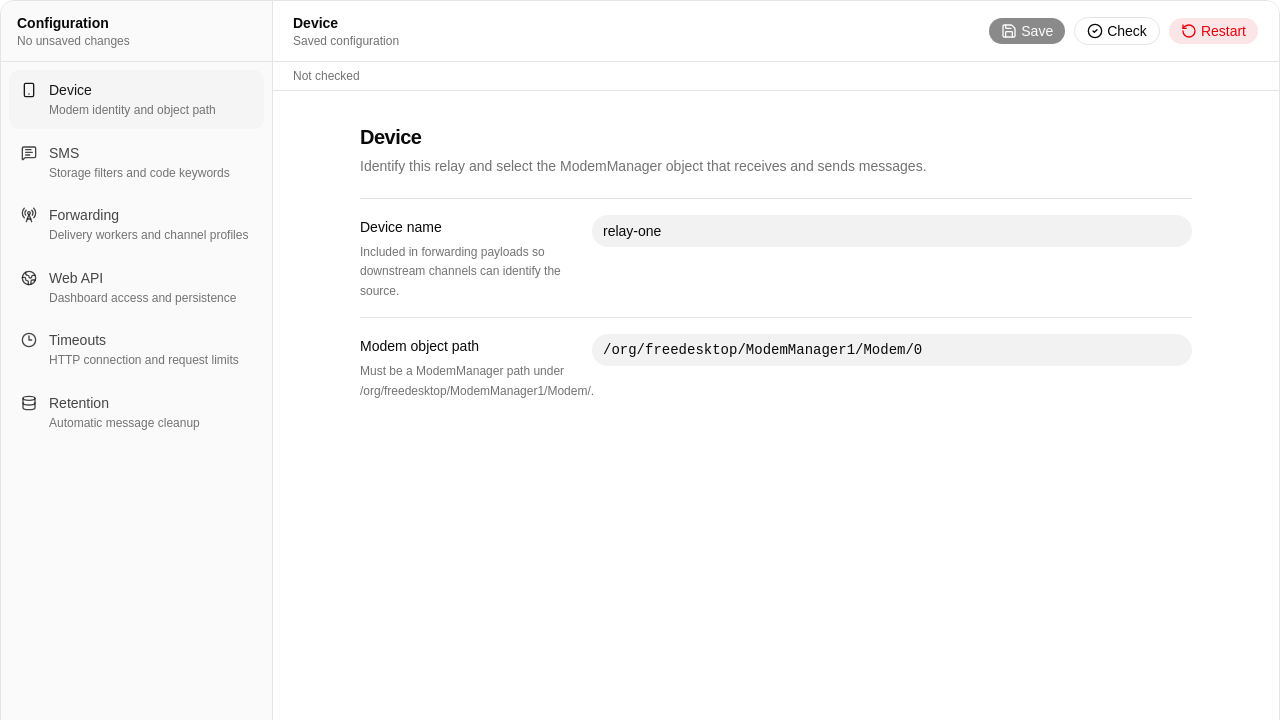
Test case: ConfigEditor workspace › previews before PUT and saves the exact captured snapshot
The image size is (1280, 720).
Replace the text in the field labelled "Device name" with "relay-two" at (892, 231), box [592, 215, 1192, 247]
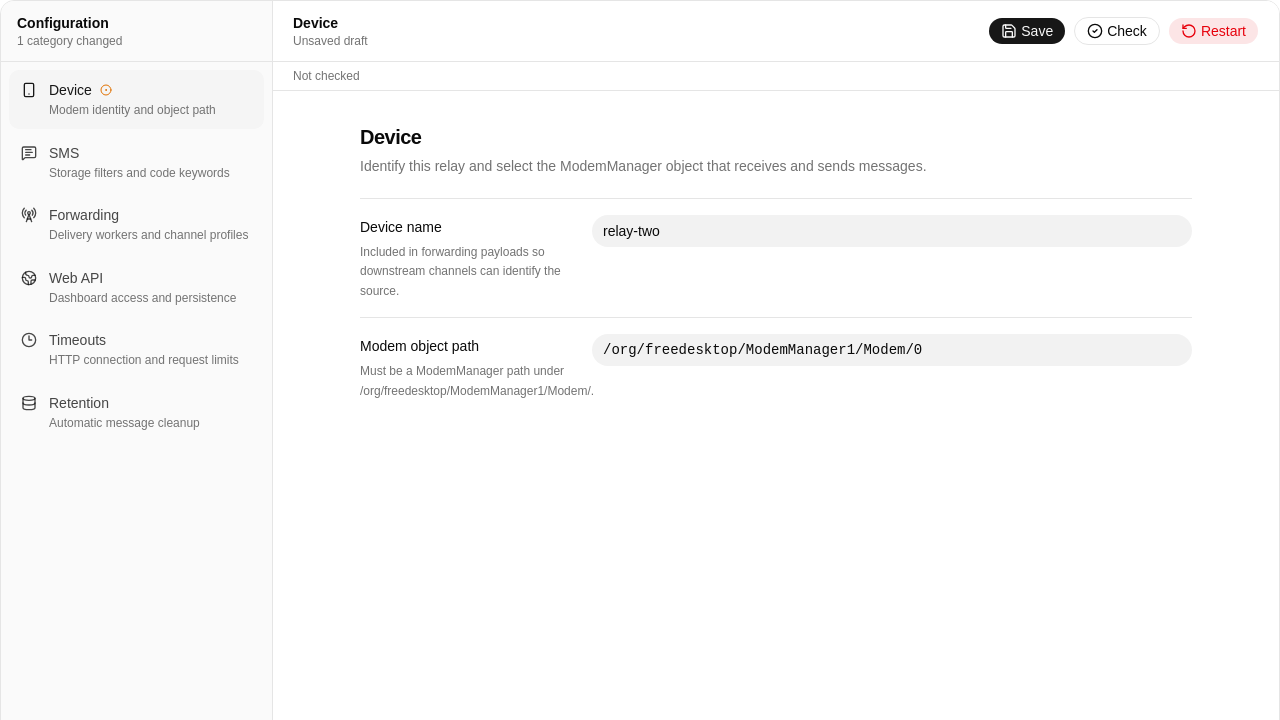
Click the button "Save" at (1027, 31), box [988, 17, 1066, 45]
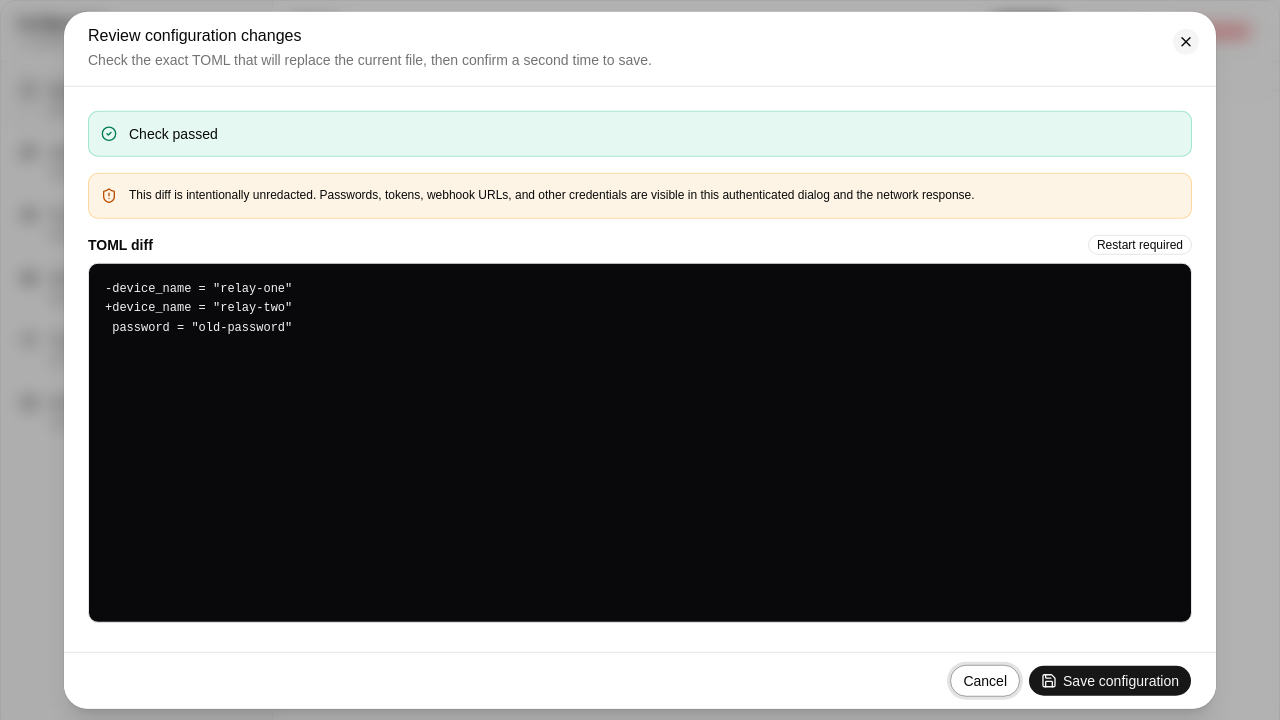
Click the button "Save configuration" at (1110, 680), box [1028, 664, 1192, 696]
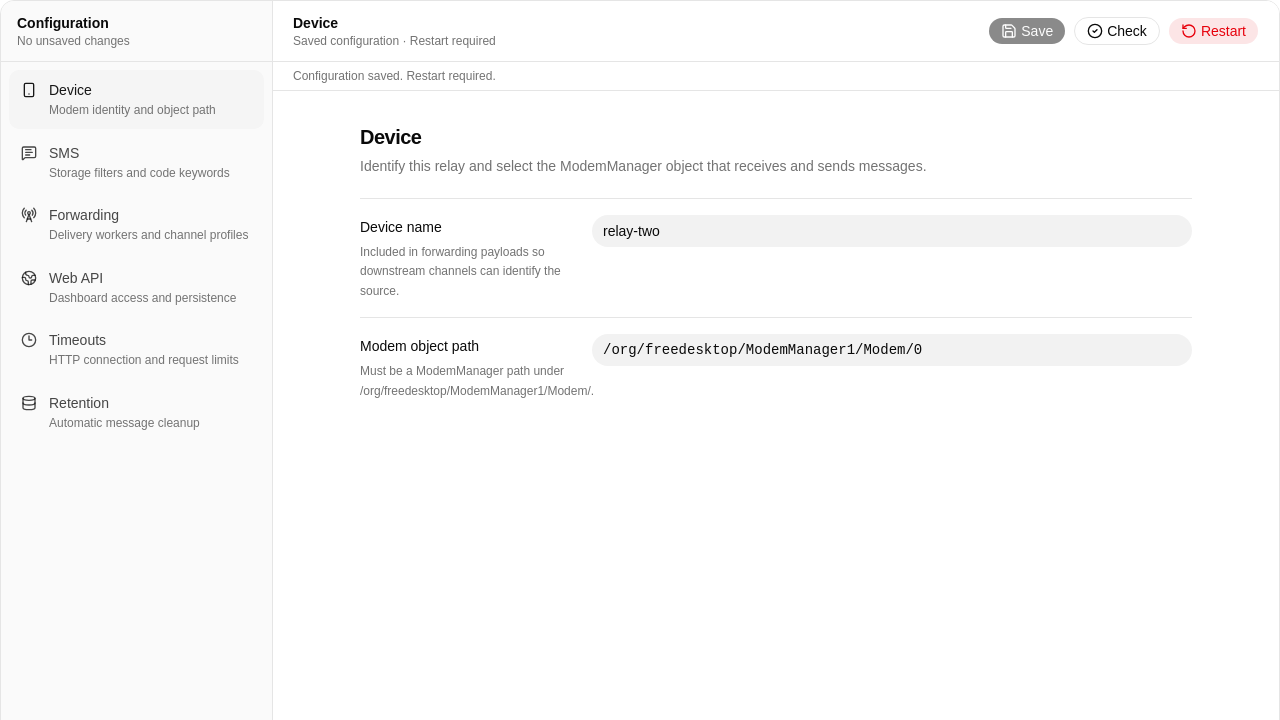
Check: the text "Configuration saved. Restart required." is shown, box [273, 61, 1279, 90]
